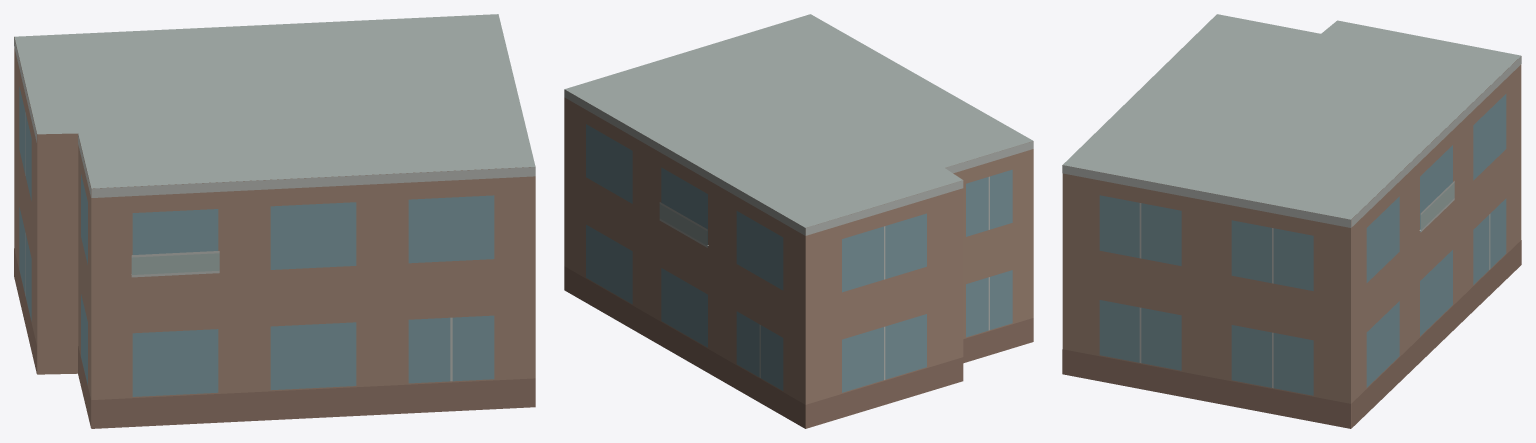
Rendered from survey-upis-32654678.glb.
3 views of the same model, side by side, from view 1: azimuth 30°, elevation 25°; view 2: azimuth 150°, elevation 25°; view 3: azimuth 270°, elevation 25° (orthographic). The views are drawn at different scales.
Visible parts, largest first — view 1: survey-upis-32654678.tmp; view 2: survey-upis-32654678.tmp; view 3: survey-upis-32654678.tmp.
Boxes of the visible parts, bbox=[...] form: survey-upis-32654678.tmp: bbox=[14, 14, 535, 428]; survey-upis-32654678.tmp: bbox=[564, 14, 1033, 428]; survey-upis-32654678.tmp: bbox=[1062, 14, 1521, 428].
Size of the model in its own units: 12.87 by 6.1 by 12.14.
